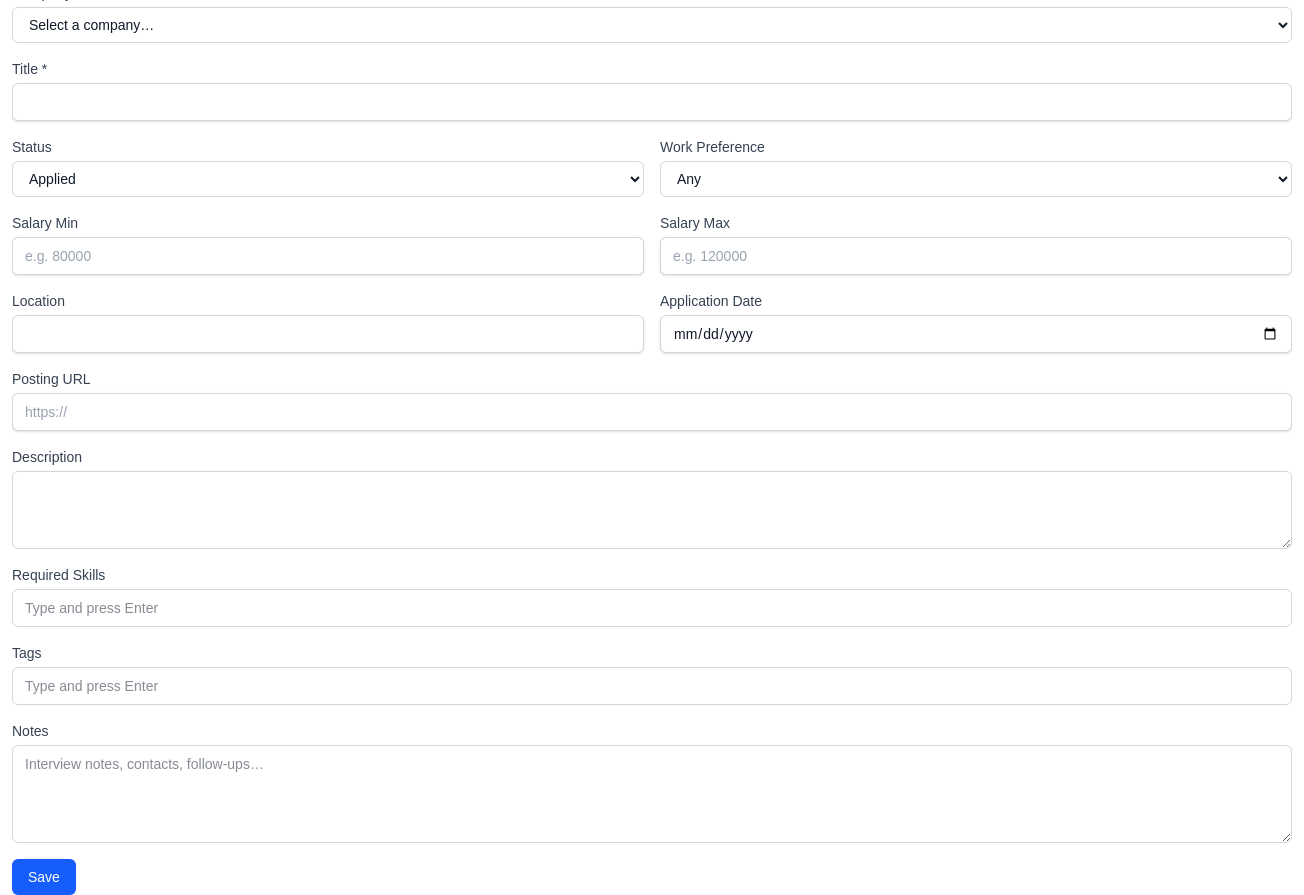
it: JobForm › shows validation error when company is not selected
The image size is (1304, 895).
(page scrolled)
Click the button "Save" at (44, 877), box [12,859,76,894]
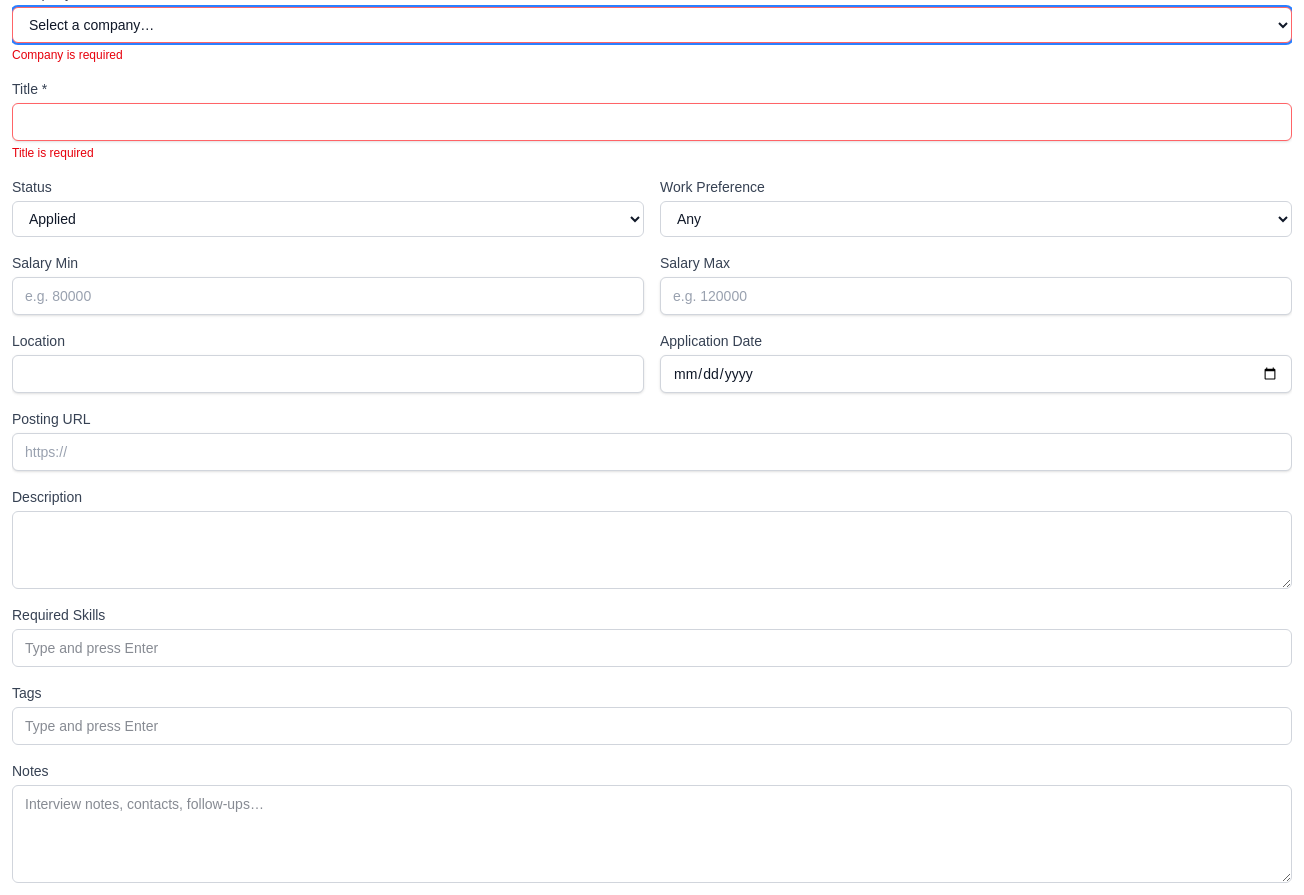
Expected: the text "Company is required" is shown, [12,48,123,62]
